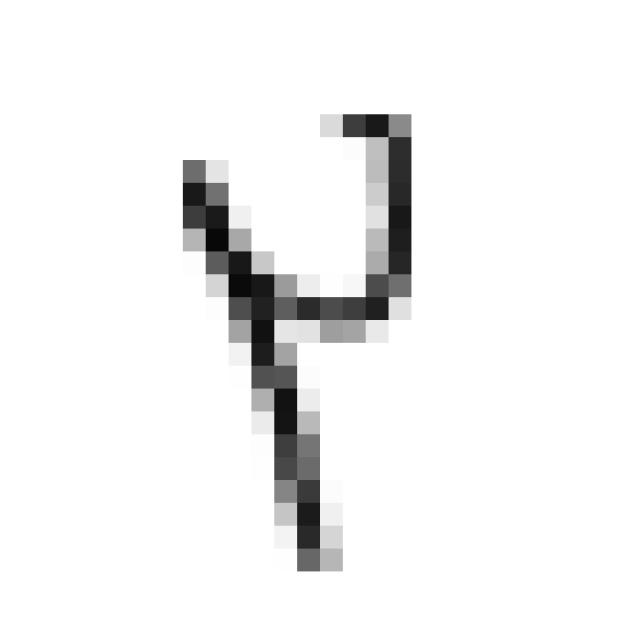3 -three-: (162, 91, 436, 598)
